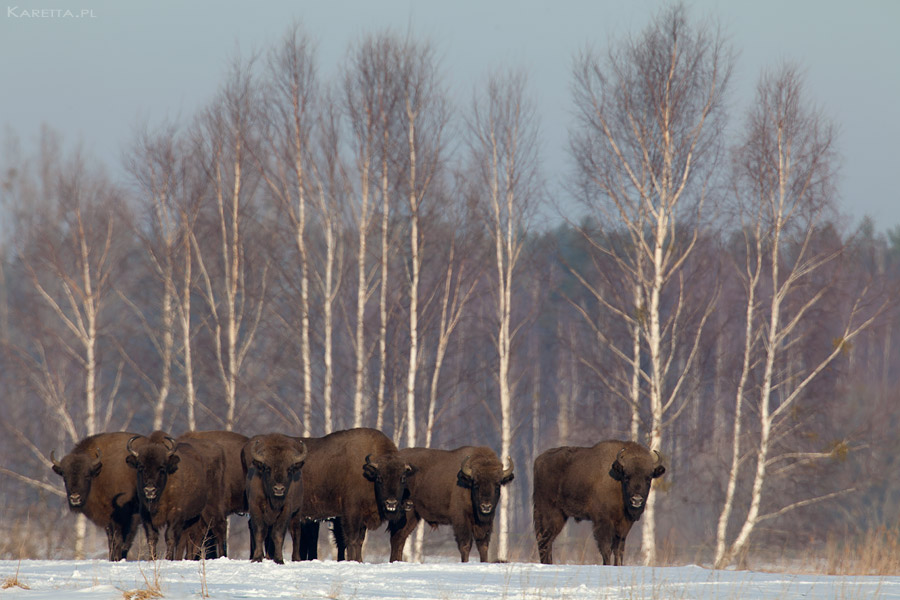zubr: (520, 416, 678, 572), (296, 419, 415, 572), (132, 424, 247, 563), (396, 431, 512, 567), (64, 419, 161, 541), (235, 424, 315, 563)
